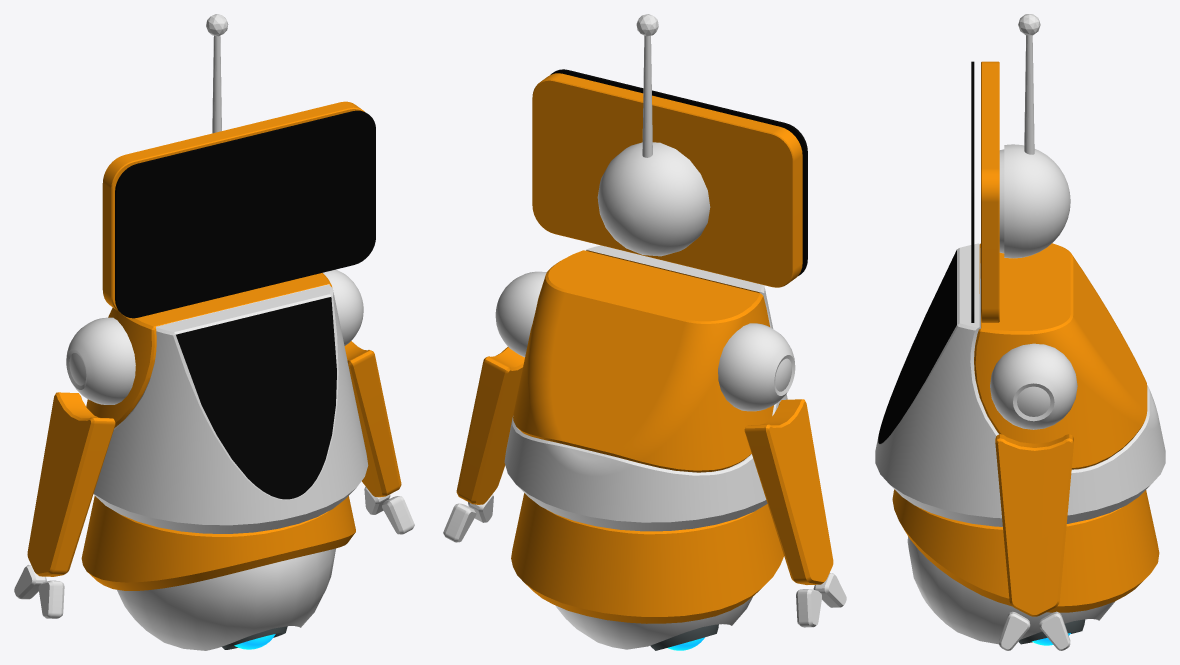
The model's file is modem.glb.
3 views of the same model, side by side, from view 1: azimuth 30°, elevation 25°; view 2: azimuth 150°, elevation 25°; view 3: azimuth 270°, elevation 25° (orthographic).
Visible parts, largest first — view 1: Body_Screen_geo, Face_Case_geo, Middle_Section_geo, Outer_geo, ArmL, Shoulder_R, ArmR, Shoulder_L, Finger_R1, Antenna, Finger_L1, Thrusters_geo (+1 smaller); view 2: Body_Screen_geo, Face_Case_geo, Middle_Section_geo, ArmL, ArmR, Shoulder_R, Outer_geo, Shoulder_L, Antenna, Finger_R2, Thrusters_geo, Finger_L2 (+1 smaller); view 3: Body_Screen_geo, Middle_Section_geo, Face_Case_geo, ArmR, Shoulder_L, Outer_geo, Antenna, Finger_L2, Finger_L1, Thrusters_geo.
Boxes of the visible parts, x1=… form: Body_Screen_geo: x1=86, y1=273, x2=368, y2=533; Face_Case_geo: x1=102, y1=101, x2=375, y2=318; Middle_Section_geo: x1=81, y1=496, x2=355, y2=590; Outer_geo: x1=117, y1=548, x2=335, y2=650; ArmL: x1=27, y1=392, x2=115, y2=576; Shoulder_R: x1=66, y1=317, x2=135, y2=404; ArmR: x1=344, y1=341, x2=401, y2=497; Shoulder_L: x1=323, y1=269, x2=363, y2=345; Finger_R1: x1=38, y1=580, x2=64, y2=618; Antenna: x1=212, y1=35, x2=221, y2=133; Finger_L1: x1=382, y1=496, x2=414, y2=534; Thrusters_geo: x1=222, y1=626, x2=287, y2=649; Body_Screen_geo: x1=504, y1=245, x2=787, y2=531; Face_Case_geo: x1=532, y1=69, x2=807, y2=287; Middle_Section_geo: x1=511, y1=493, x2=783, y2=623; ArmL: x1=744, y1=399, x2=833, y2=584; ArmR: x1=456, y1=347, x2=524, y2=504; Shoulder_R: x1=718, y1=323, x2=795, y2=411; Outer_geo: x1=555, y1=597, x2=752, y2=649; Shoulder_L: x1=495, y1=271, x2=546, y2=357; Antenna: x1=642, y1=36, x2=652, y2=157; Finger_R2: x1=796, y1=589, x2=821, y2=627; Thrusters_geo: x1=650, y1=624, x2=718, y2=650; Finger_L2: x1=443, y1=503, x2=476, y2=542; Body_Screen_geo: x1=875, y1=243, x2=1165, y2=526; Middle_Section_geo: x1=892, y1=489, x2=1159, y2=612; Face_Case_geo: x1=971, y1=61, x2=1070, y2=322; ArmR: x1=995, y1=434, x2=1073, y2=616; Shoulder_L: x1=990, y1=343, x2=1077, y2=429; Outer_geo: x1=907, y1=536, x2=1114, y2=644; Antenna: x1=1024, y1=35, x2=1034, y2=154; Finger_L2: x1=1039, y1=611, x2=1070, y2=650; Finger_L1: x1=999, y1=611, x2=1030, y2=650; Thrusters_geo: x1=1018, y1=619, x2=1085, y2=645.
Size of the model in its own units: 0.5003 by 0.7988 by 0.3432.
Materials: 5 (1 with a texture image).
